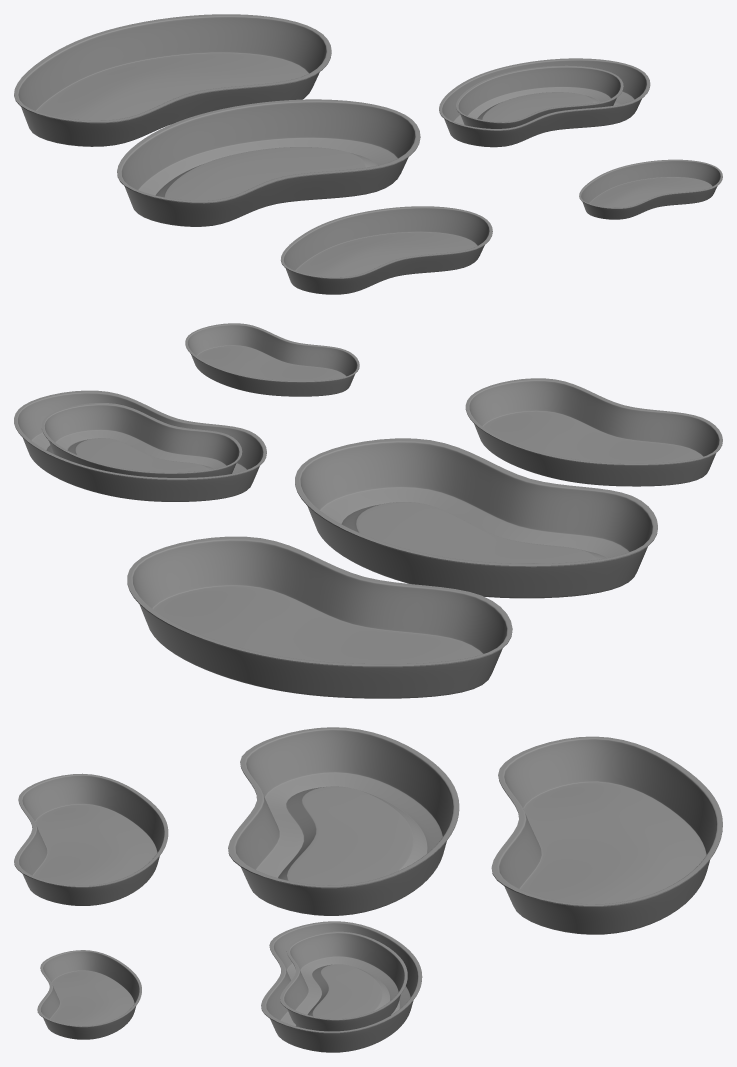
Rendered from tray4.fbx.
The picture shows the model from 3 angles, top to bottom: view 1: azimuth 30°, elevation 25°; view 2: azimuth 150°, elevation 25°; view 3: azimuth 270°, elevation 25°; orthographic projection. The views are drawn at different scales.
Visible parts, largest first — view 1: Medical_Trays.001, Medical_Trays, Medical_Trays.002, Medical_Trays.011, Medical_Trays.010, Medical_Trays.019; view 2: Medical_Trays.001, Medical_Trays, Medical_Trays.002, Medical_Trays.011, Medical_Trays.010, Medical_Trays.019; view 3: Medical_Trays.001, Medical_Trays, Medical_Trays.002, Medical_Trays.011, Medical_Trays.019, Medical_Trays.010.
Boxes of the visible parts, x1,y1,x2,y2 form: Medical_Trays.001: [14, 14, 331, 146]; Medical_Trays: [117, 99, 420, 226]; Medical_Trays.002: [280, 206, 492, 294]; Medical_Trays.011: [456, 65, 623, 128]; Medical_Trays.010: [439, 58, 650, 147]; Medical_Trays.019: [579, 159, 722, 219]; Medical_Trays.001: [127, 536, 512, 698]; Medical_Trays: [295, 438, 657, 598]; Medical_Trays.002: [465, 378, 722, 486]; Medical_Trays.011: [41, 403, 242, 477]; Medical_Trays.010: [14, 390, 266, 501]; Medical_Trays.019: [185, 323, 359, 396]; Medical_Trays.001: [491, 736, 722, 934]; Medical_Trays: [228, 727, 459, 915]; Medical_Trays.002: [14, 773, 168, 905]; Medical_Trays.011: [280, 931, 407, 1031]; Medical_Trays.019: [37, 950, 141, 1039]; Medical_Trays.010: [261, 921, 422, 1052].
Bounding box in the file's own units: 3530 × 241 × 3616.
1 material, 1 textured.
